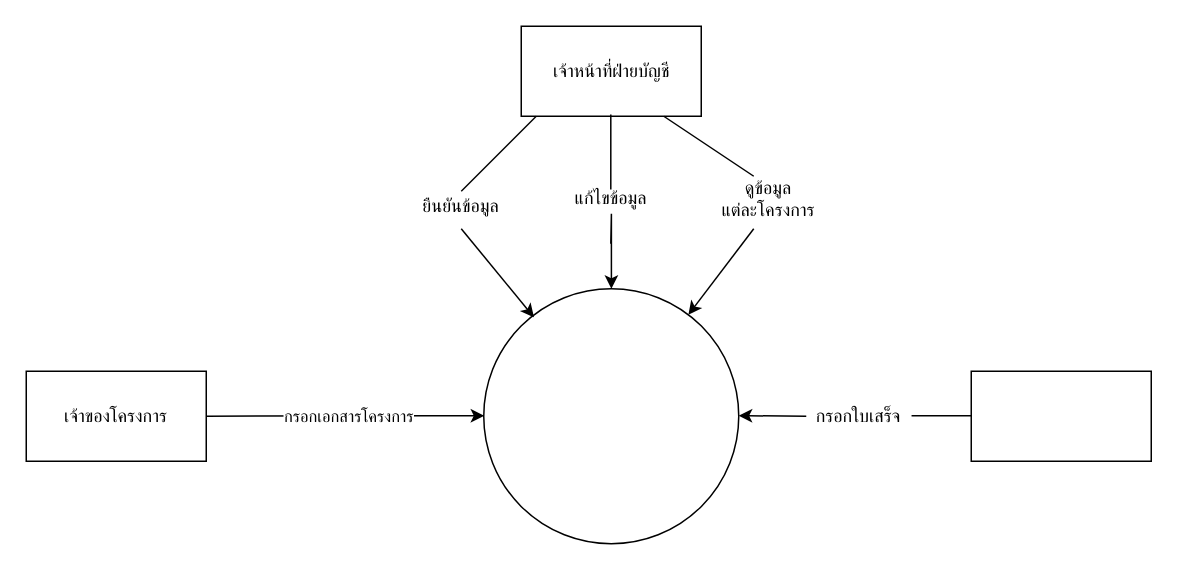
Some shapes in this 1178 by 570 pixel diagram are drawn without their labels. The shapes that lost their labels are listed below. From the top down, each one's centre as x and y in pixels, then its label:
At point (610, 415): "Web application".
At point (1060, 415): "ผู้คืนงบประมาณ".
